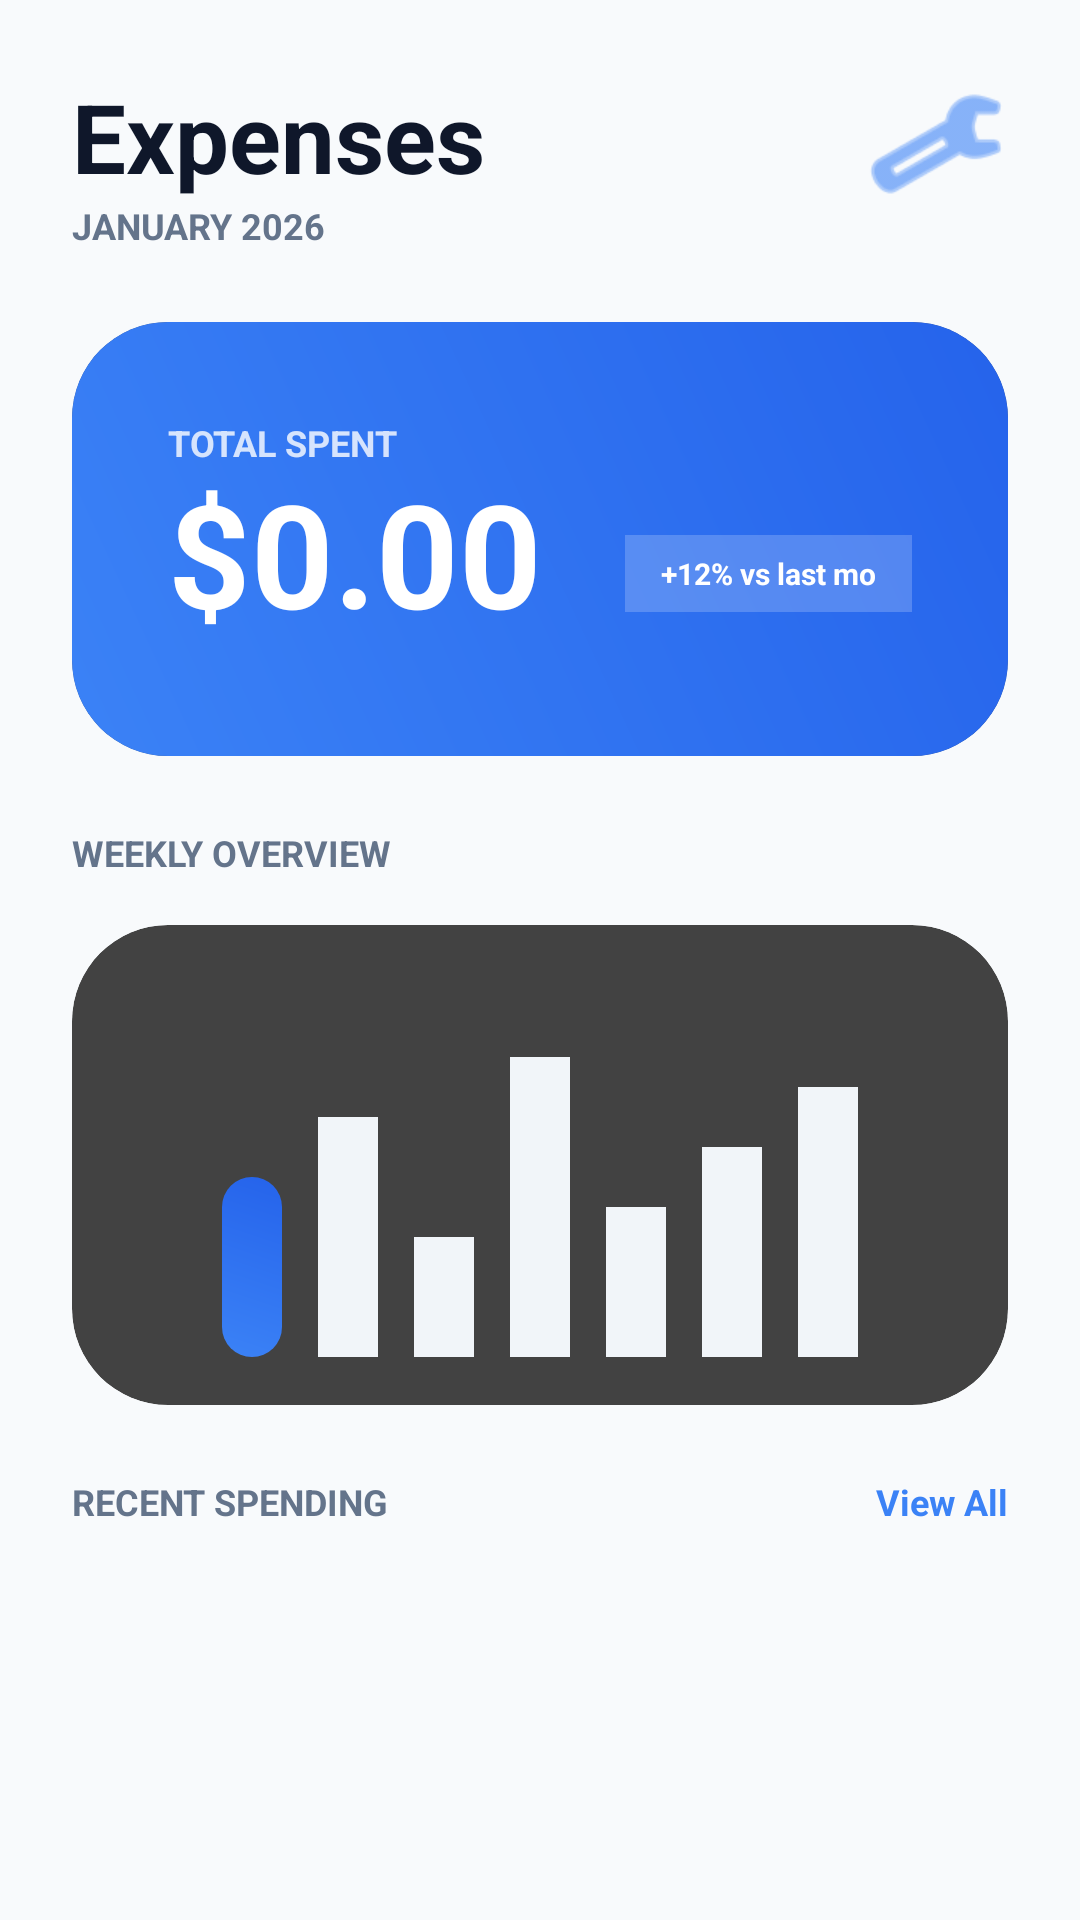

Named icons in this screenshot (1080*1920) and their centers, point (x, y):
manage: point (936, 144)
